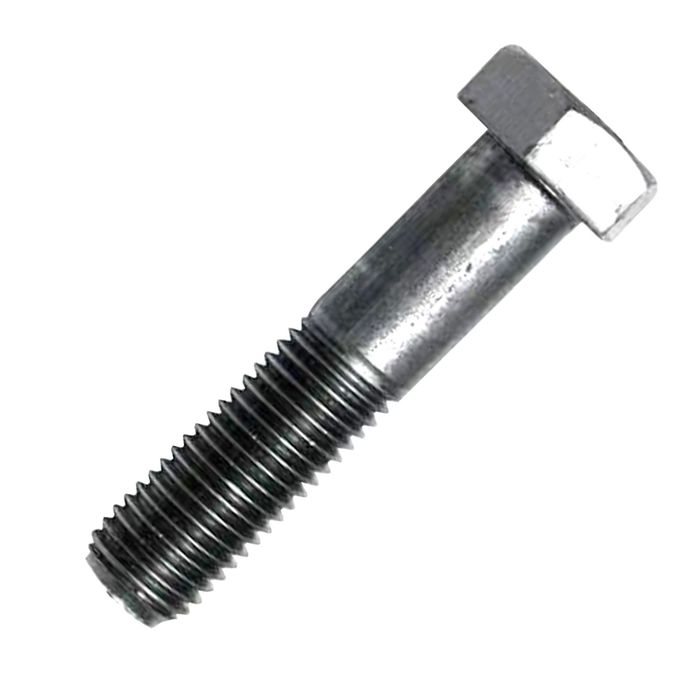screw: (85, 44, 657, 628)
